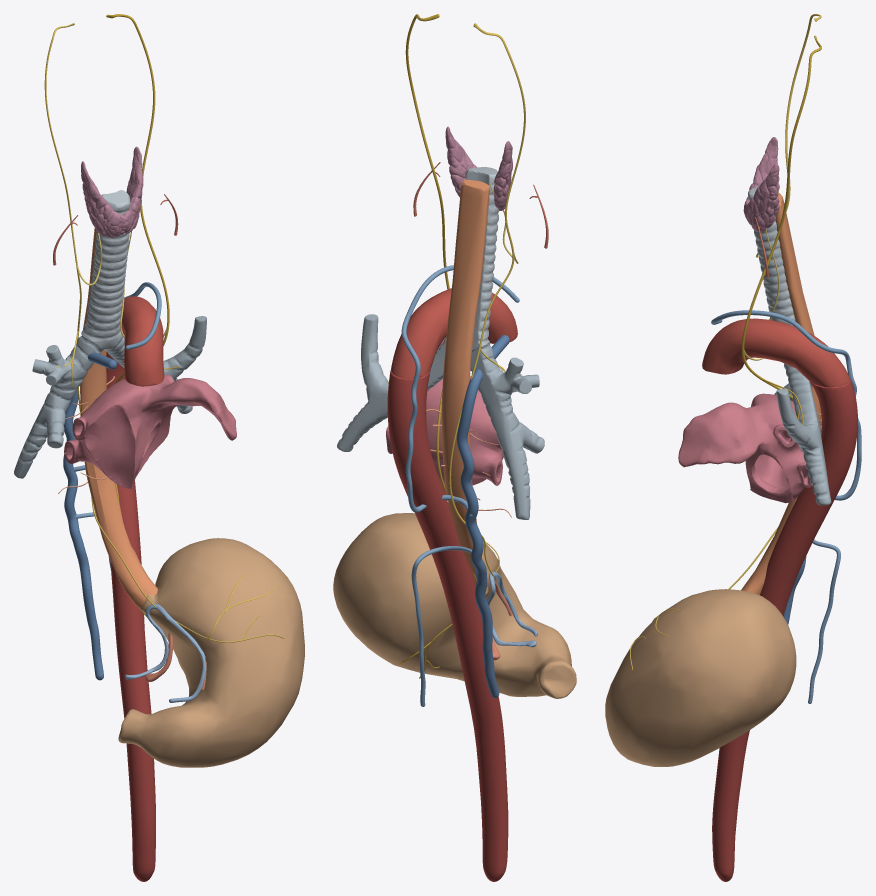
Rendered from esophagus.glb.
The picture shows the model from 3 angles, left to right: view 1: azimuth 30°, elevation 25°; view 2: azimuth 150°, elevation 25°; view 3: azimuth 270°, elevation 25°; orthographic projection. The views are drawn at different scales.
Parts seen in each view (by area): view 1: stomach, left-atrium, descending-aorta, main-bronchi, esophagus, trachea, aortic-arch, azygos-vein, thyroid-gland, right-vagus-nerve, left-gastric-vein, left-vagus-nerve (+1 smaller); view 2: stomach, descending-aorta, esophagus, main-bronchi, aortic-arch, azygos-vein, left-atrium, hemiazygos-veins, trachea, thyroid-gland, right-vagus-nerve, left-vagus-nerve (+1 smaller); view 3: stomach, descending-aorta, left-atrium, aortic-arch, main-bronchi, esophagus, hemiazygos-veins, thyroid-gland, trachea, left-vagus-nerve, right-vagus-nerve.
Boxes of the visible parts, bbox=[...] form: stomach: bbox=[118, 538, 304, 767]; left-atrium: bbox=[64, 374, 236, 488]; descending-aorta: bbox=[106, 352, 155, 881]; main-bronchi: bbox=[14, 316, 206, 478]; esophagus: bbox=[80, 228, 157, 613]; trachea: bbox=[81, 190, 130, 350]; aortic-arch: bbox=[121, 296, 164, 386]; azygos-vein: bbox=[63, 352, 117, 680]; thyroid-gland: bbox=[81, 146, 143, 237]; right-vagus-nerve: bbox=[44, 23, 284, 642]; left-gastric-vein: bbox=[125, 603, 206, 702]; left-vagus-nerve: bbox=[106, 14, 182, 669]; stomach: bbox=[333, 513, 576, 698]; descending-aorta: bbox=[387, 370, 508, 881]; esophagus: bbox=[441, 179, 490, 590]; main-bronchi: bbox=[337, 314, 544, 519]; aortic-arch: bbox=[391, 288, 517, 378]; azygos-vein: bbox=[456, 335, 509, 698]; left-atrium: bbox=[386, 338, 503, 485]; hemiazygos-veins: bbox=[401, 265, 519, 706]; trachea: bbox=[444, 167, 498, 352]; thyroid-gland: bbox=[445, 126, 512, 210]; right-vagus-nerve: bbox=[449, 23, 525, 576]; left-vagus-nerve: bbox=[387, 14, 476, 678]; stomach: bbox=[605, 589, 796, 766]; descending-aorta: bbox=[712, 379, 857, 881]; left-atrium: bbox=[678, 393, 811, 503]; aortic-arch: bbox=[702, 318, 849, 387]; main-bronchi: bbox=[774, 363, 831, 505]; esophagus: bbox=[741, 192, 821, 595]; hemiazygos-veins: bbox=[711, 310, 861, 703]; thyroid-gland: bbox=[743, 137, 779, 232]; trachea: bbox=[748, 186, 795, 325]; left-vagus-nerve: bbox=[741, 35, 821, 518]; right-vagus-nerve: bbox=[629, 14, 821, 670].
Size of the model in its own units: 1.56 by 5.54 by 1.51.
